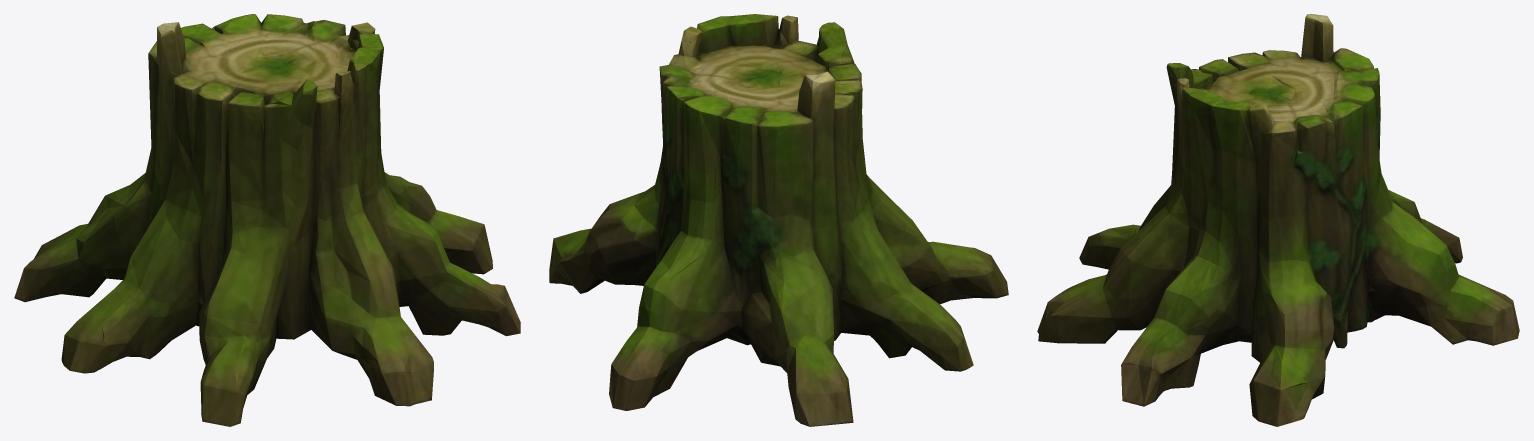
Rendered from d_racines_souche.glb.
3 views of the same model, side by side, from view 1: azimuth 30°, elevation 25°; view 2: azimuth 150°, elevation 25°; view 3: azimuth 270°, elevation 25° (orthographic). The views are drawn at different scales.
Parts seen in each view (by area): view 1: geometry_0; view 2: geometry_0; view 3: geometry_0.
Boxes of the visible parts, bbox=[...] form: geometry_0: bbox=[14, 14, 520, 426]; geometry_0: bbox=[549, 14, 1008, 426]; geometry_0: bbox=[1037, 14, 1519, 426].
Size of the model in its own units: 0.9648 by 0.6306 by 1.
1 material, 1 textured.
